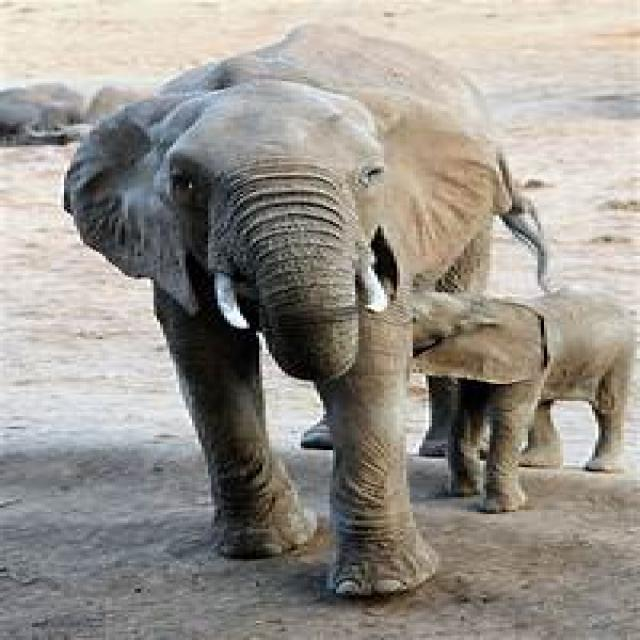elephant: (61, 23, 554, 602)
